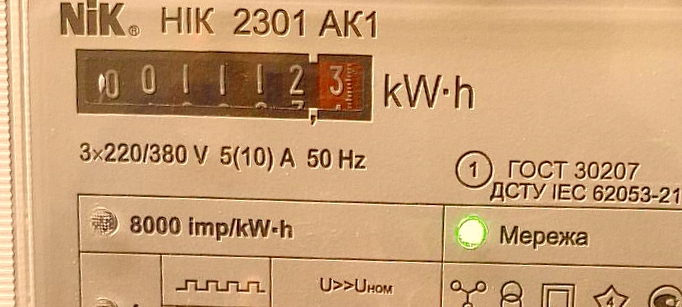0: (136, 60, 160, 99), (100, 65, 123, 101)
1: (175, 59, 195, 97), (213, 60, 229, 98), (251, 60, 267, 97)
2: (284, 61, 308, 98)
3: (325, 62, 345, 98)
screen: (65, 36, 381, 133)
